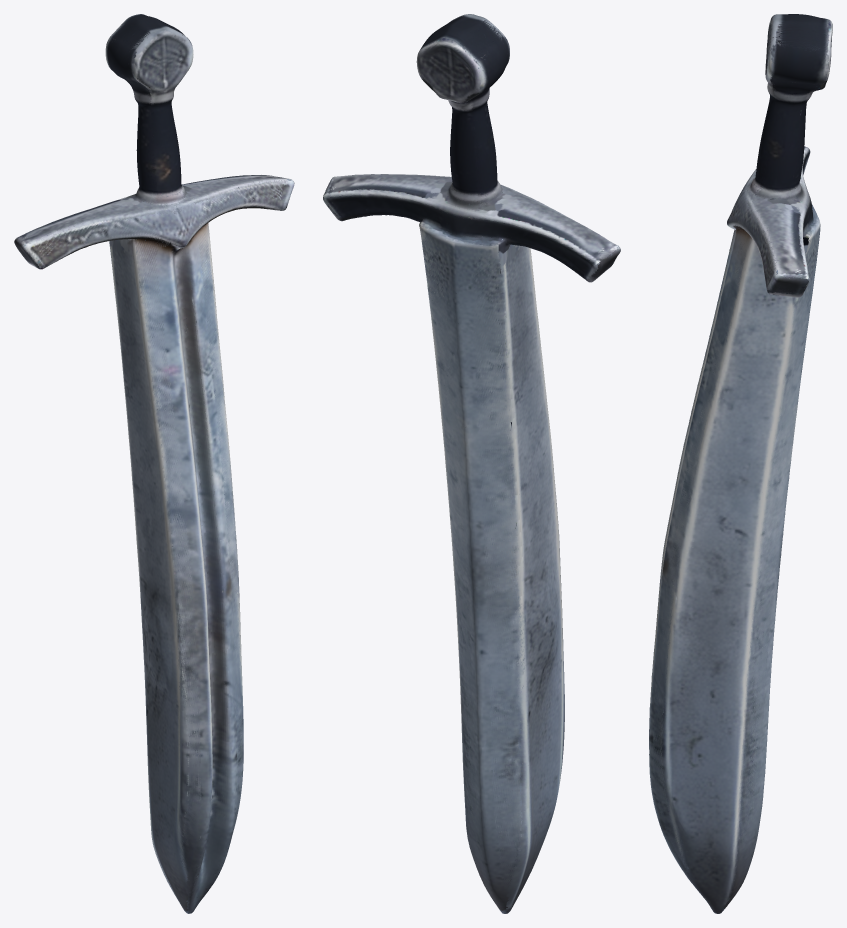
Rendered from mech.glb.
The picture shows the model from 3 angles, left to right: view 1: azimuth 30°, elevation 25°; view 2: azimuth 150°, elevation 25°; view 3: azimuth 270°, elevation 25°; orthographic projection. The views are drawn at different scales.
Visible parts, largest first — view 1: world; view 2: world; view 3: world.
Part boxes in pixels (x1,y1,x2,y2): world: [14, 14, 294, 913]; world: [323, 14, 620, 913]; world: [649, 14, 832, 913].
Bounding box in the file's own units: 0.6379 × 1.94 × 0.3612.
1 material, 1 textured.
